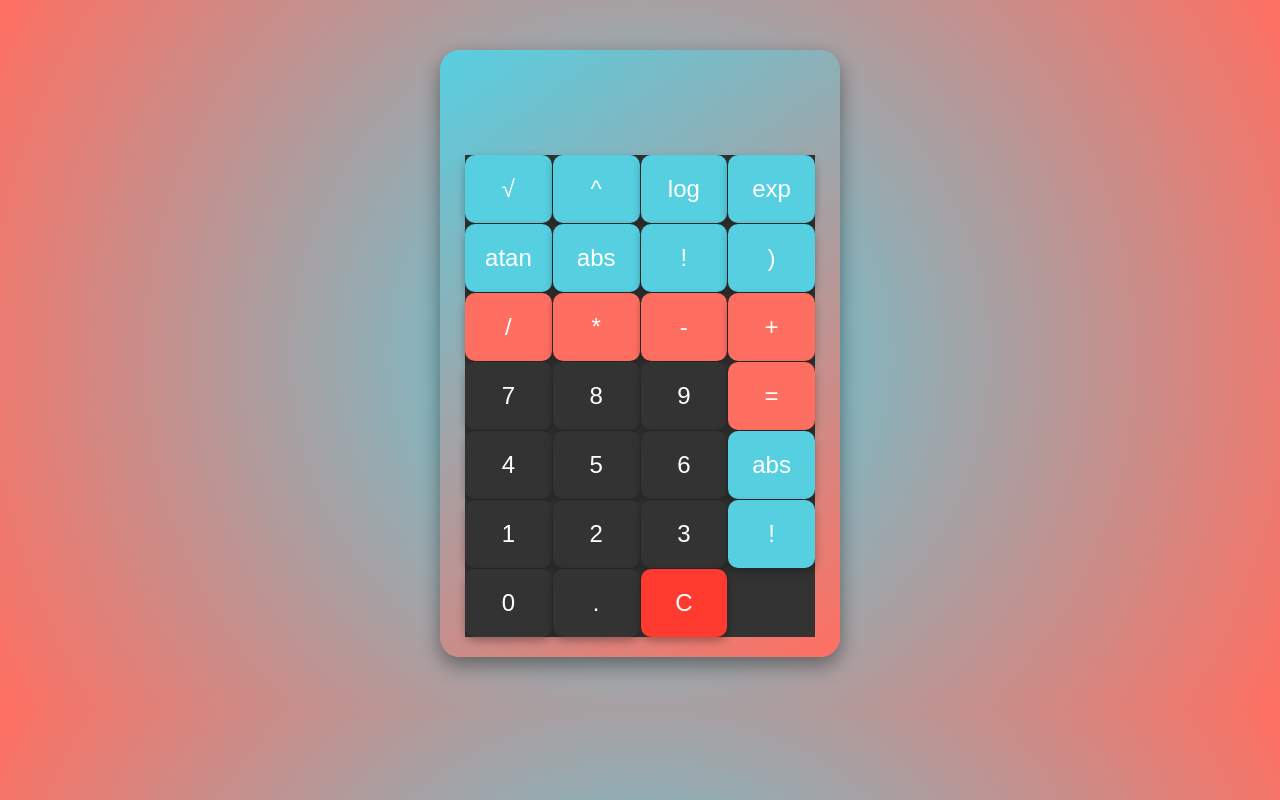
Test: Calculator Component Tests › Should handle division by zero gracefully
# Testa como a calculadora lida com divisão por zero
Click the button "8" at [597, 396], box [553,362,640,430]
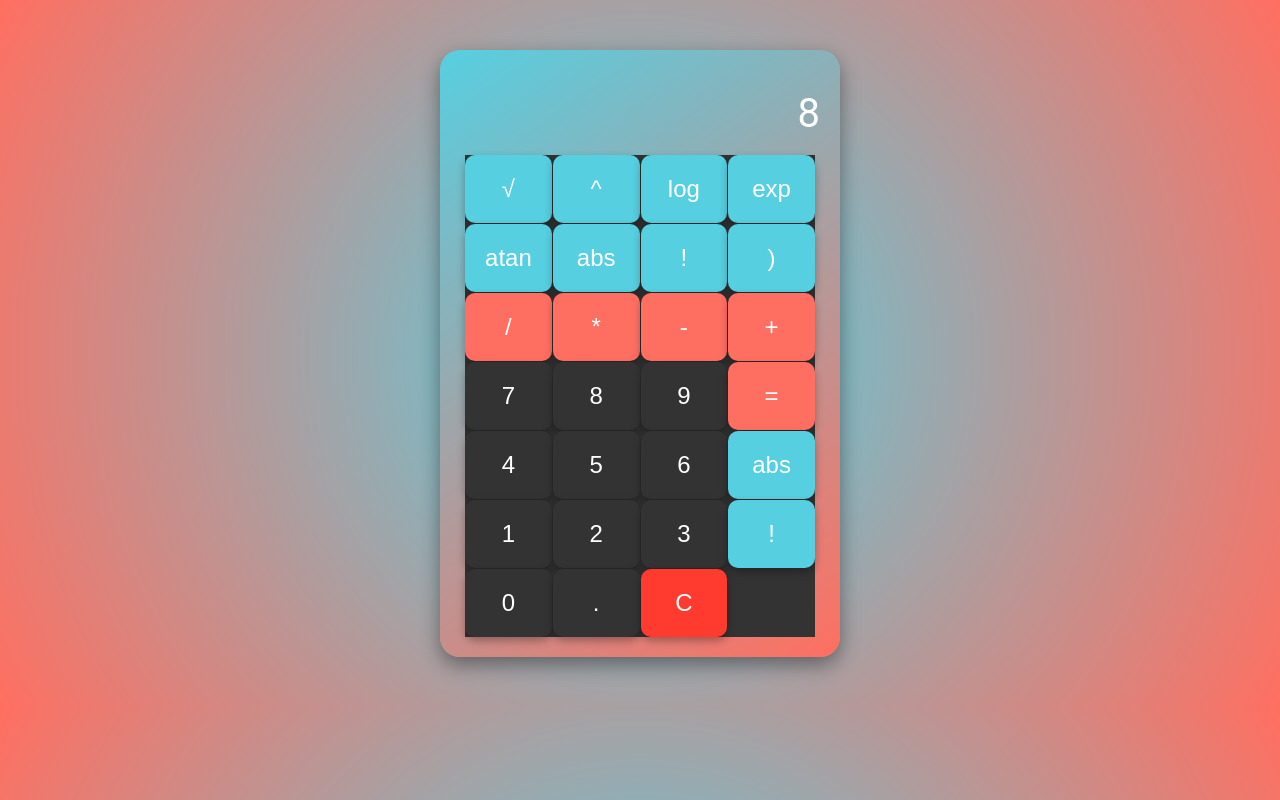
Click the button "/" at [509, 327], box [465,293,552,361]
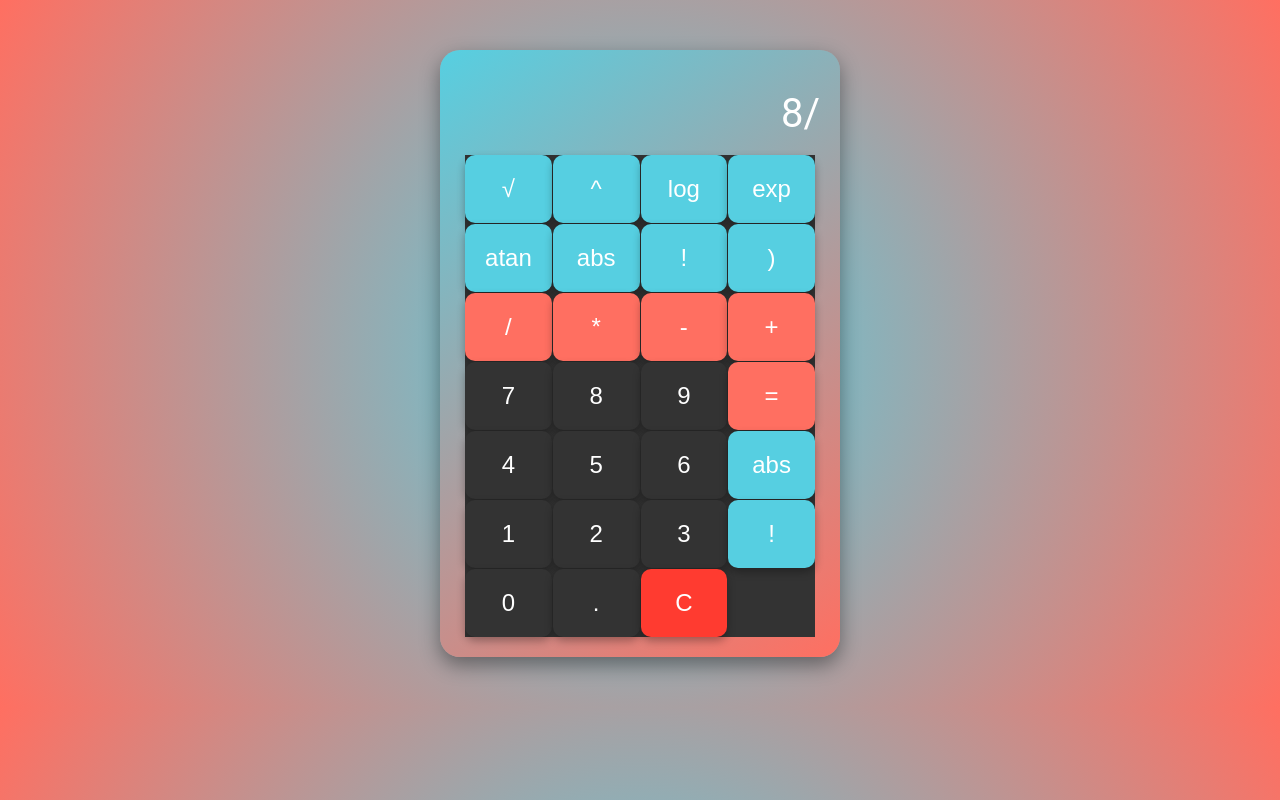
Click the button "0" at [509, 603], box [465,569,552,637]
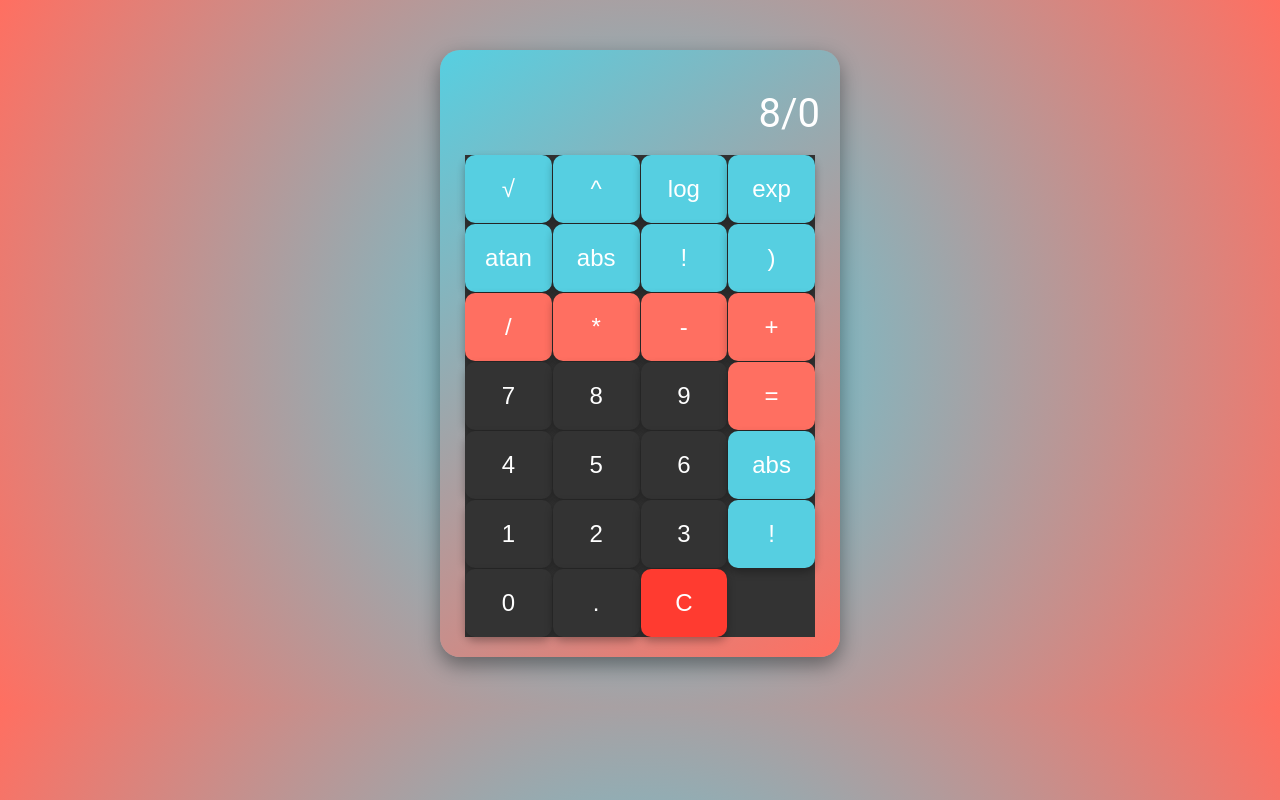
Click the button "=" at [772, 396], box [728,362,815,430]
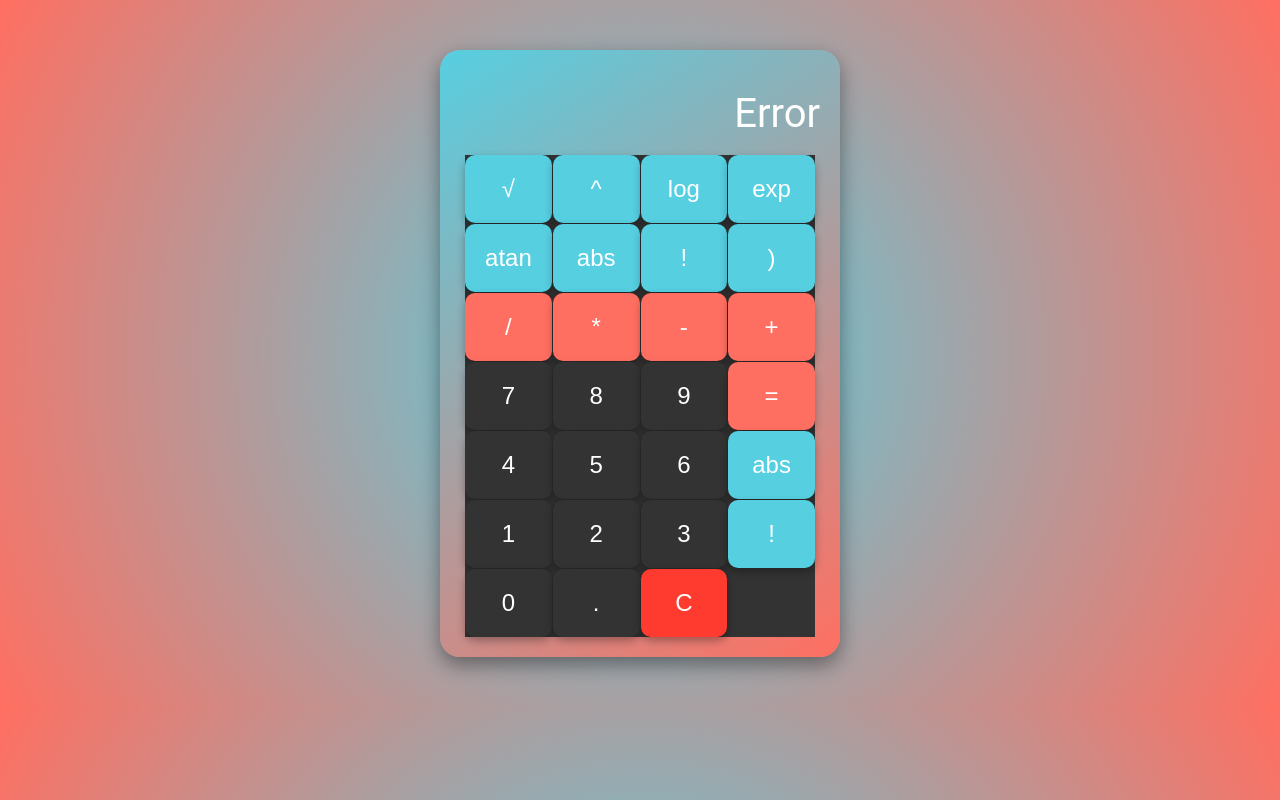
Expected: the text with class "display" reads "Error", [734,90,820,137]
